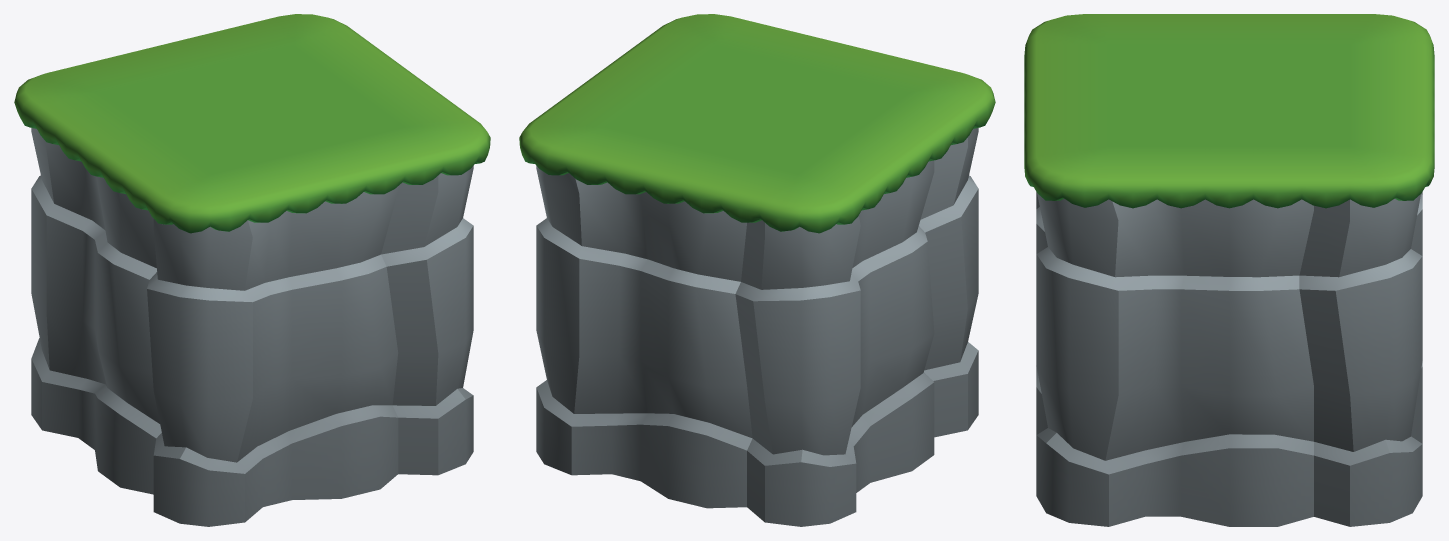
File: Hill_8x8x8_Color1.gltf
The picture shows the model from 3 angles, left to right: view 1: azimuth 30°, elevation 25°; view 2: azimuth 150°, elevation 25°; view 3: azimuth 270°, elevation 25°; orthographic projection. The views are drawn at different scales.
Visible parts, largest first — view 1: Hill_8x8x8_Color1; view 2: Hill_8x8x8_Color1; view 3: Hill_8x8x8_Color1.
Part boxes in pixels (x1,y1,x2,y2): Hill_8x8x8_Color1: (14, 14, 490, 526); Hill_8x8x8_Color1: (519, 14, 995, 526); Hill_8x8x8_Color1: (1024, 14, 1434, 526).
Size of the model in its own units: 8.5 by 8 by 8.5.
1 material, 1 textured.
